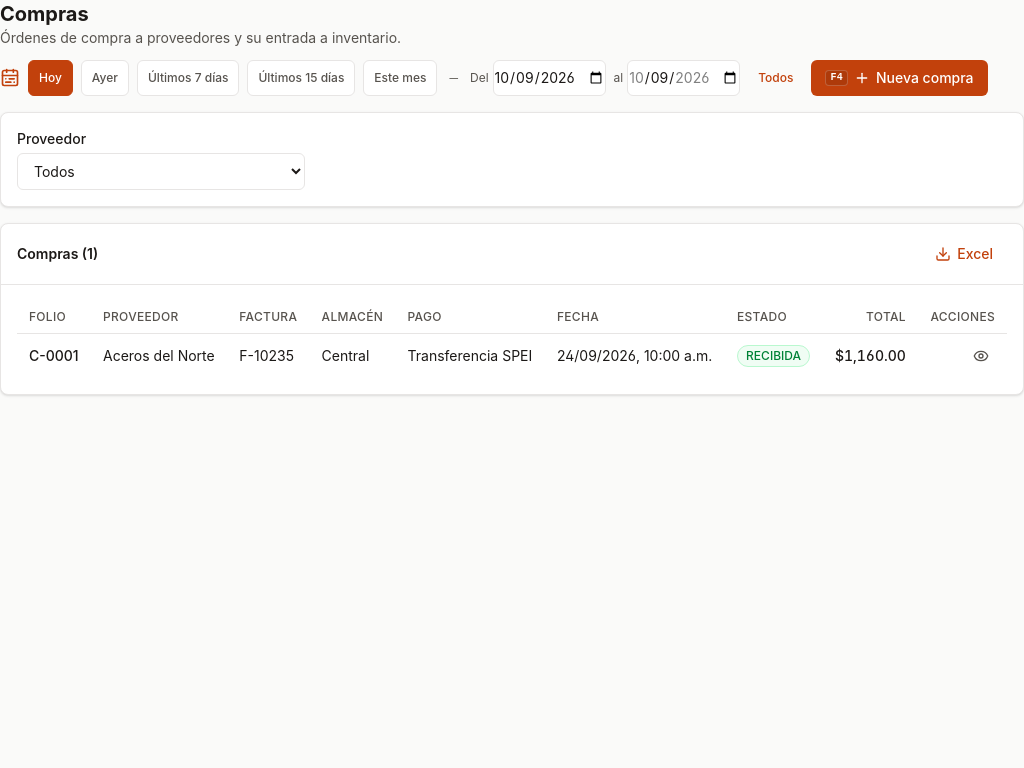
ComprasPage (smoke) › 'Nueva compra' abre el diálogo de alta
The width and height of the screenshot is (1024, 768).
Click the button "F4 Nueva compra".
click(900, 78)  # box [812,60,988,96]
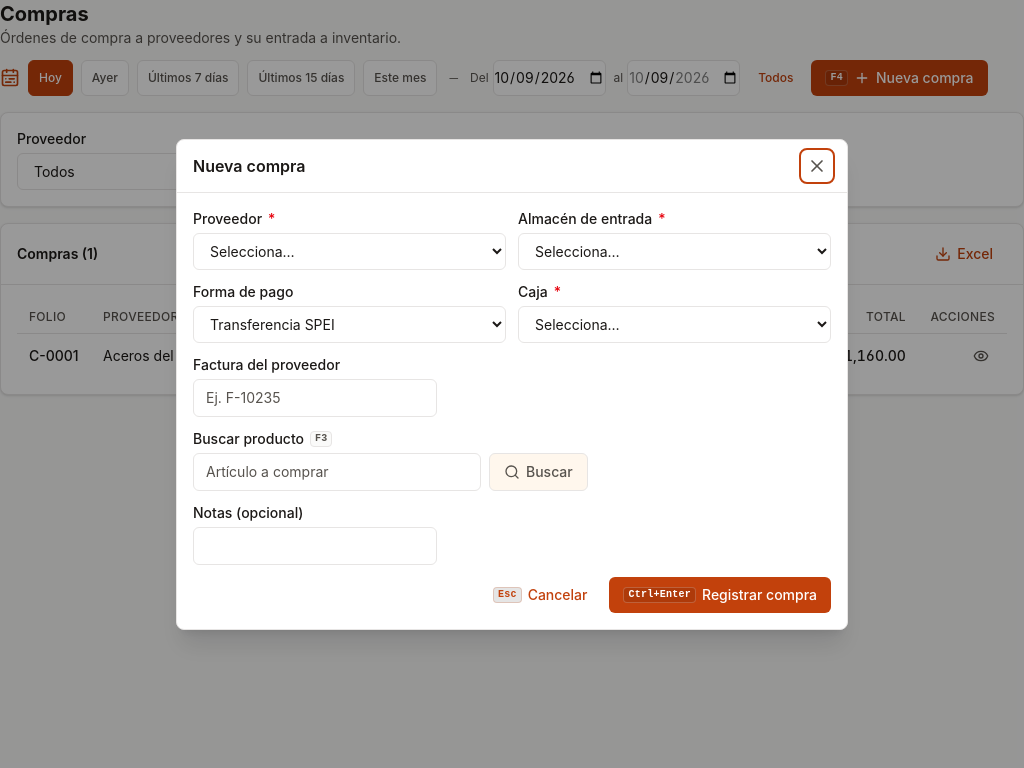
Result: the heading "Nueva compra" is shown at [193,154,305,178]
Result: the dropdown labelled "Almacén de entrada *" is shown at [518,232,831,270]
Result: the field labelled "Buscar producto F3" is shown at [193,452,481,490]
